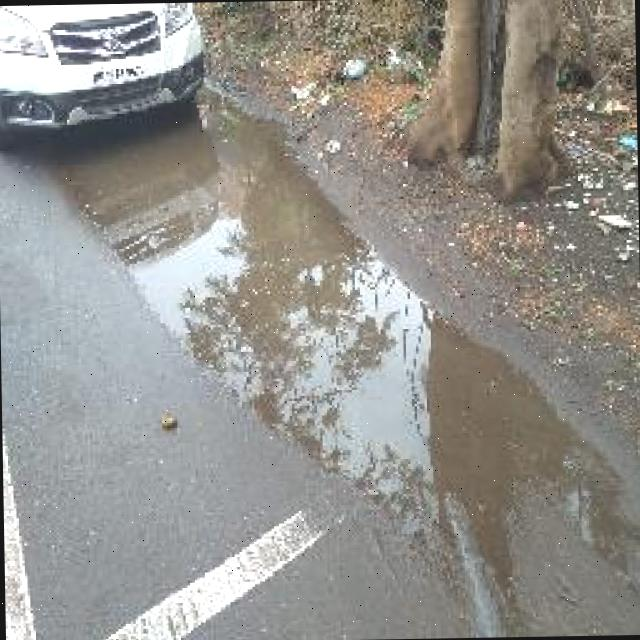stagnation: (41, 93, 631, 616)
